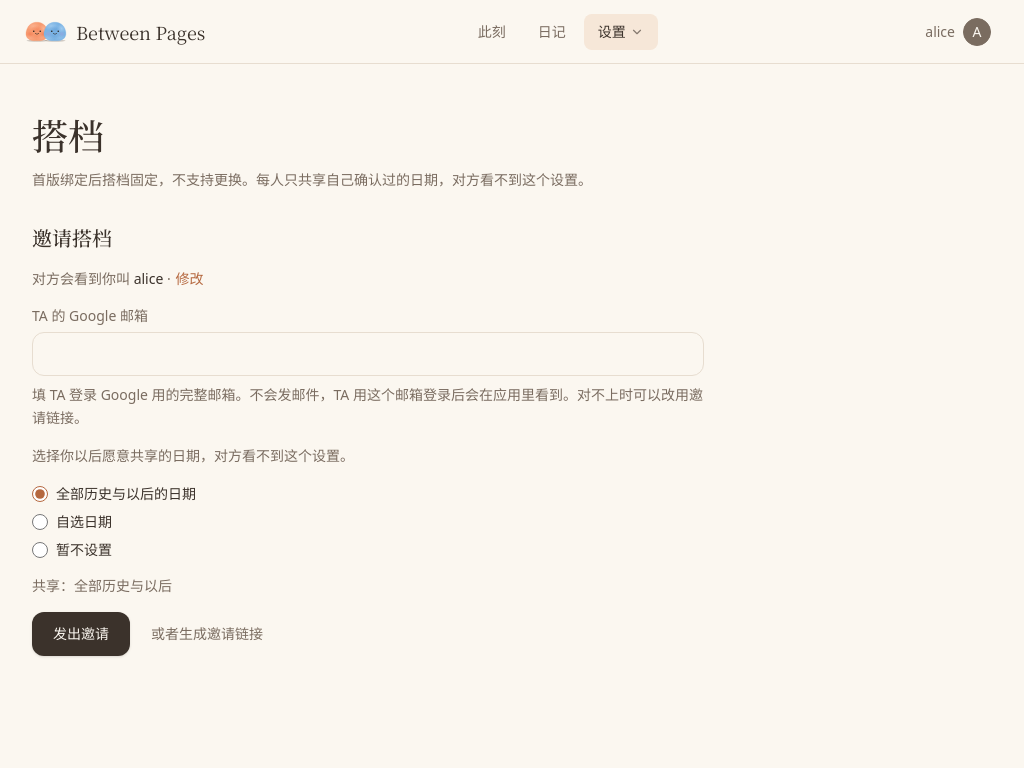
inviting by email on 设置 → 搭档 › [adr:in-app-invitation-by-email#3] sends to the address and says only that TA has to sign in
This screenshot has width=1024, height=768.
Type "not an address" into the field labelled "TA 的 Google 邮箱". click: (368, 354)
box: [32,332,704,376]
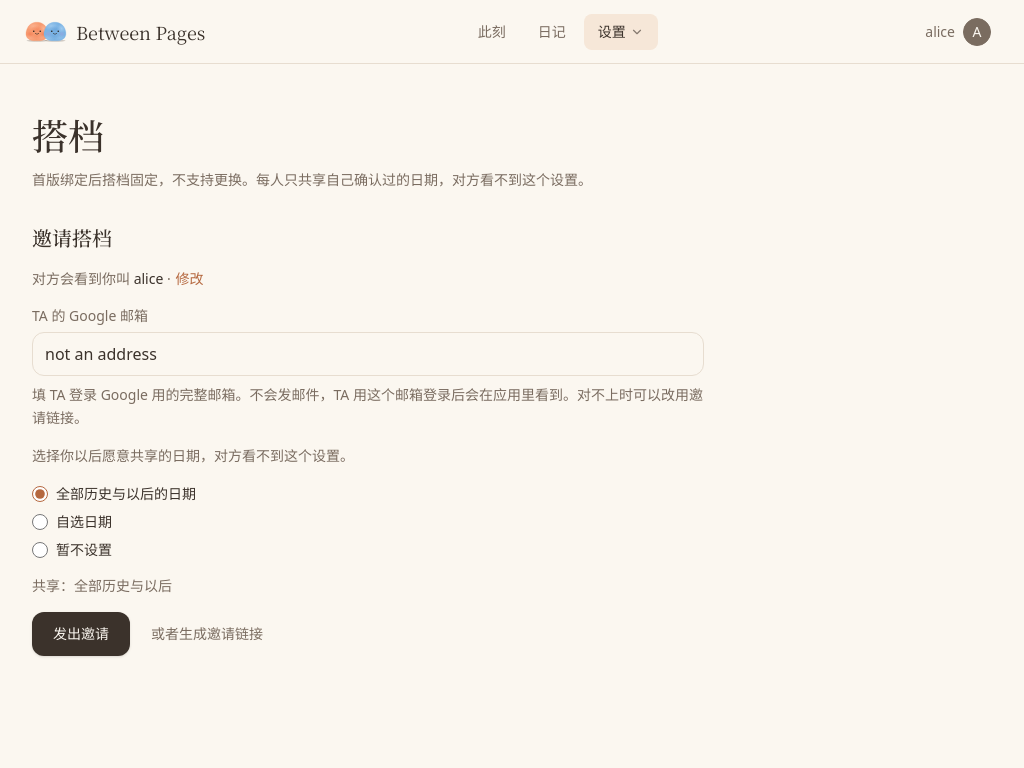
Click the button "发出邀请". click: (81, 634)
box: [32,612,130,656]
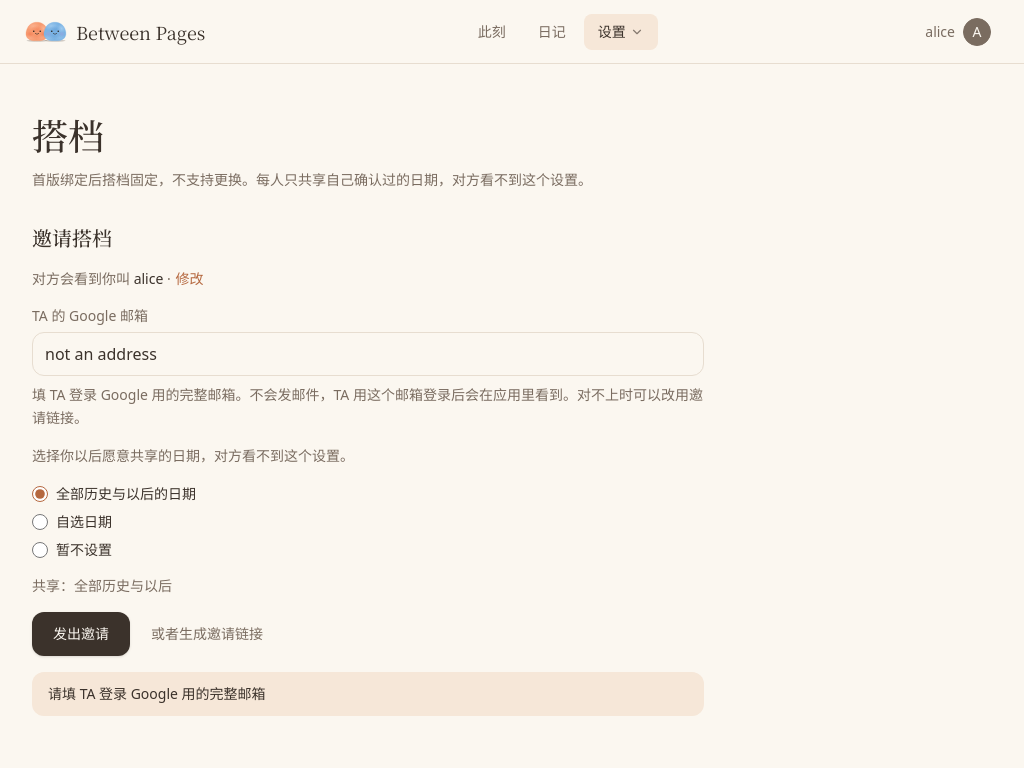
Expected: the message reads "请填 TA 登录 Google 用的完整邮箱", [48,684,266,703]
Replace the text in the field labelled "TA 的 Google 邮箱" with " Bob@Example.com ". click: (368, 354)
box: [32,332,704,376]
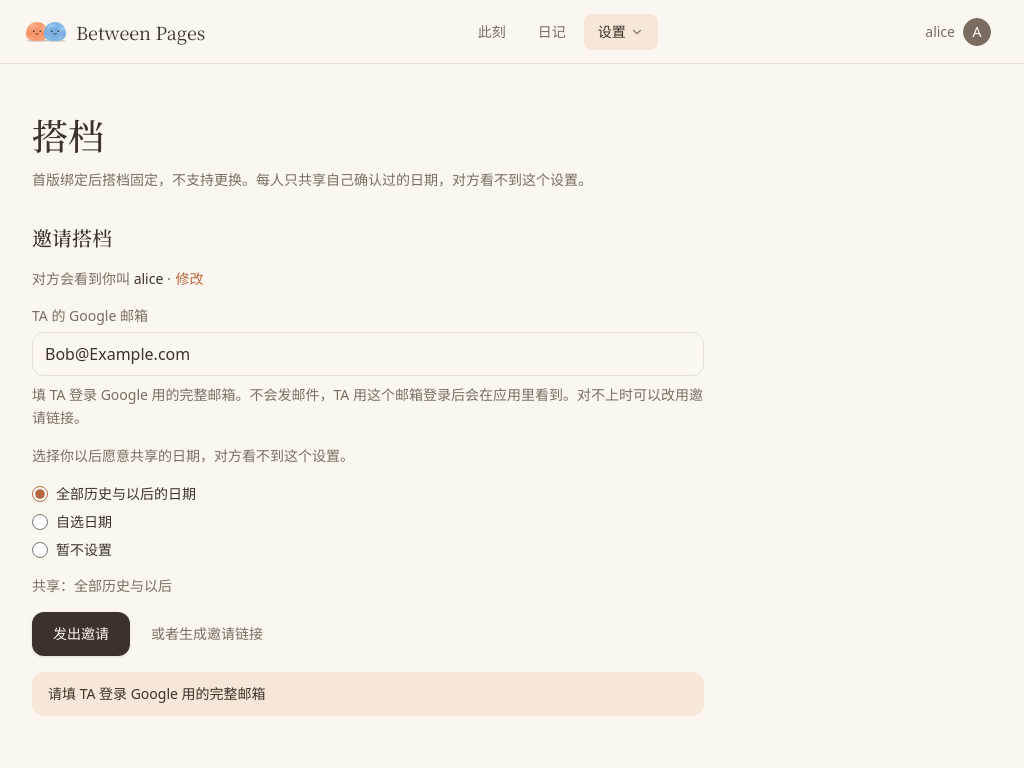
Click the button "发出邀请". click: (81, 634)
box: [32,612,130,656]
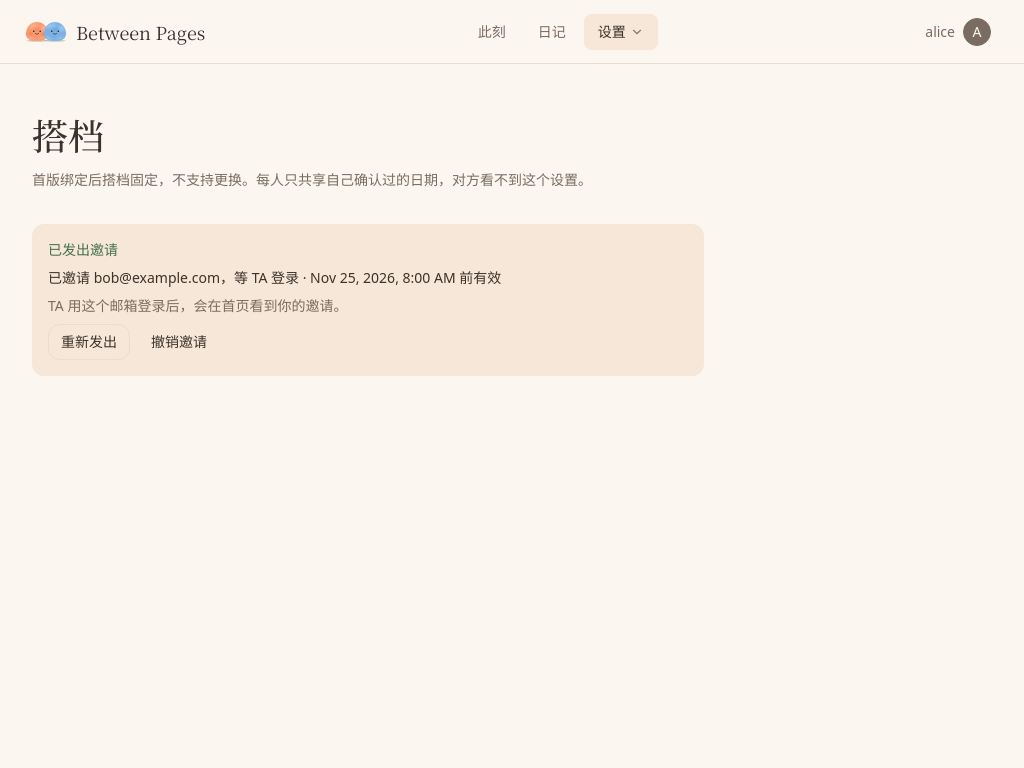
Expected: the text "已发出邀请" is shown, [48,240,118,260]
Expected: the text "已邀请 bob@example.com，等 TA 登录 · Nov 25, 2026, 8:00 AM 前有效" is shown, [48,268,501,288]
Expected: the text labelled "邀请链接" is gone
